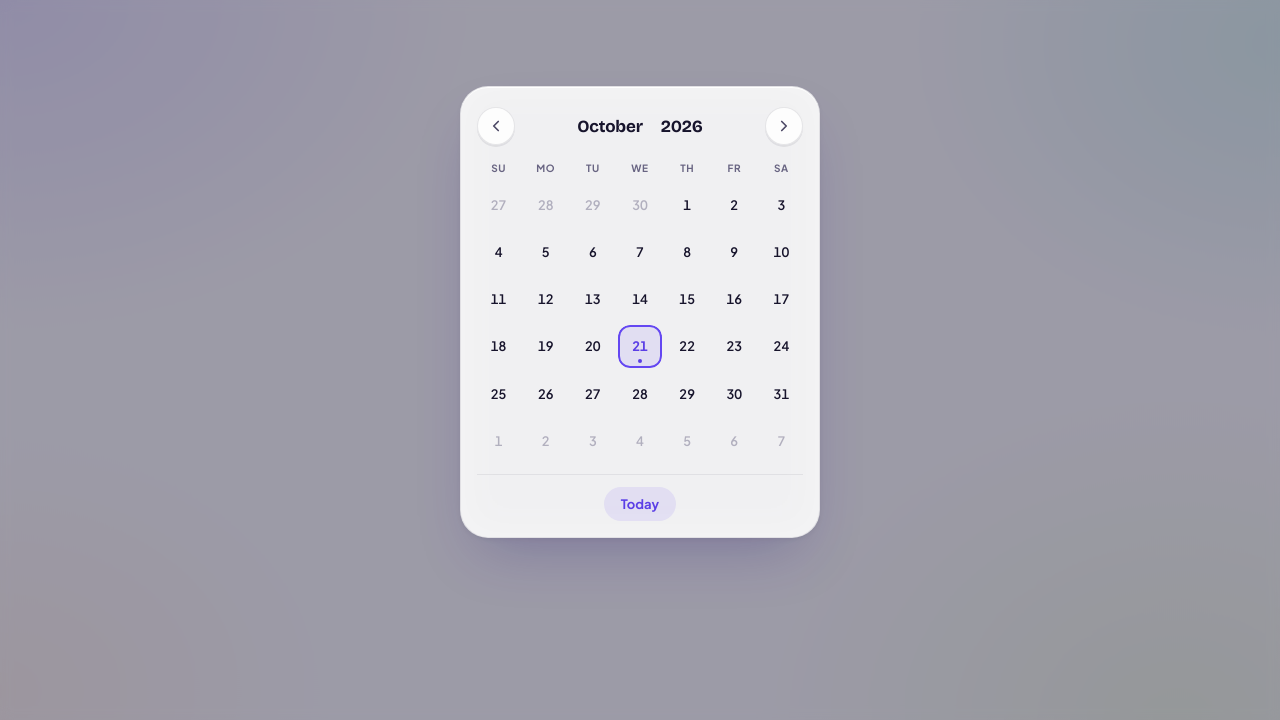
Scenario: CalendarPicker › allows future dates up to a custom max date
Click the button named "Next month": coordinates (784, 126) [765,107,803,145]
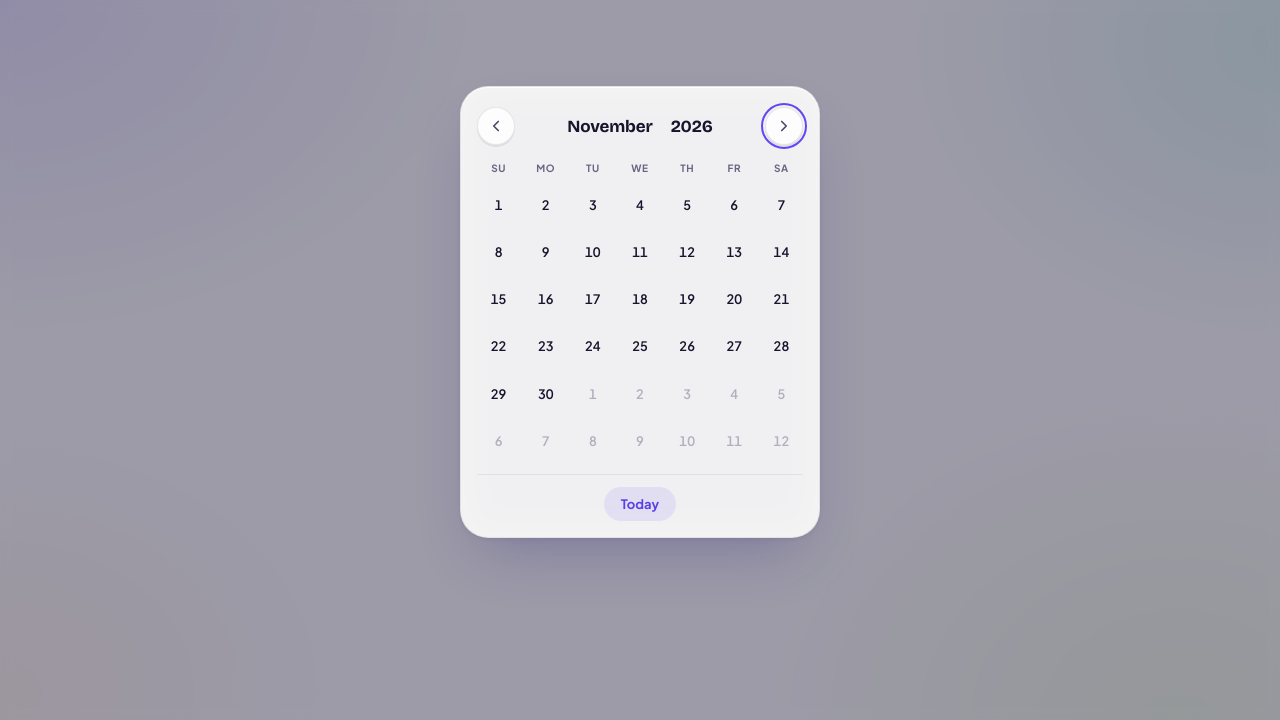
Click the button named "Next month": coordinates (784, 126) [765,107,803,145]
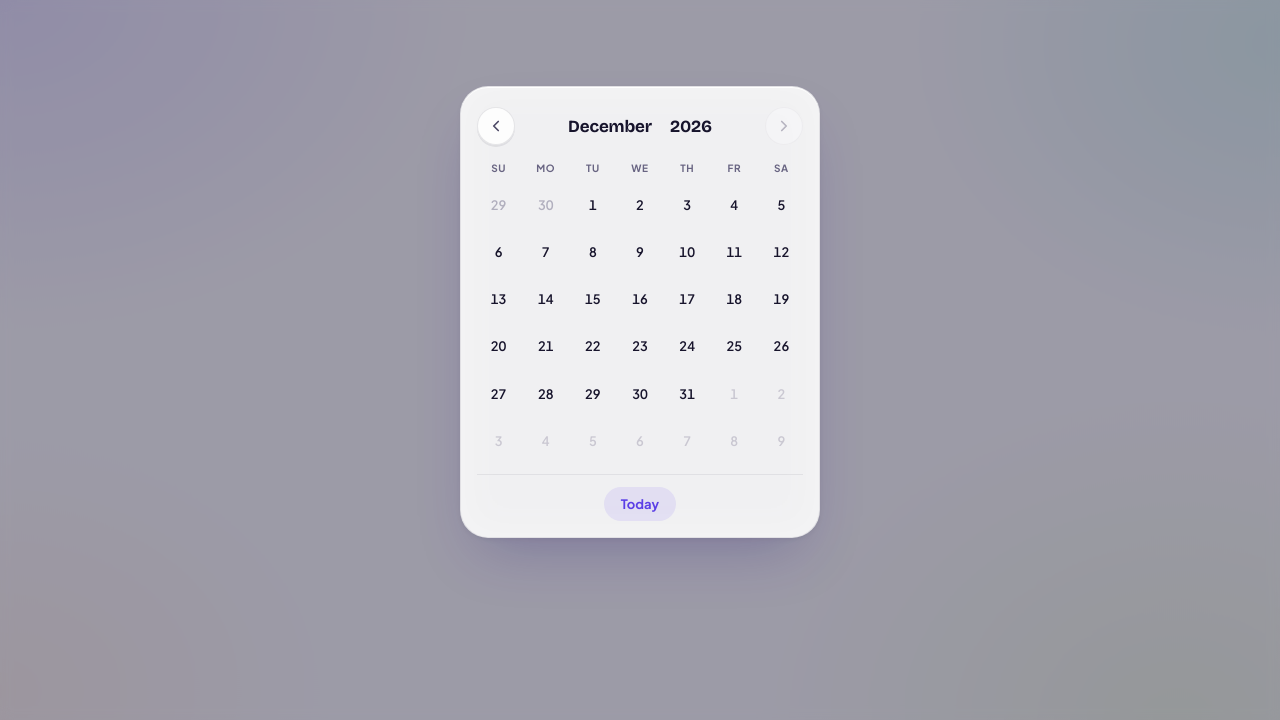
Result: the button with aria-label "December, choose month" is shown at [560,112,660,141]
Result: the button named "Next month" is disabled at [765,107,803,145]
